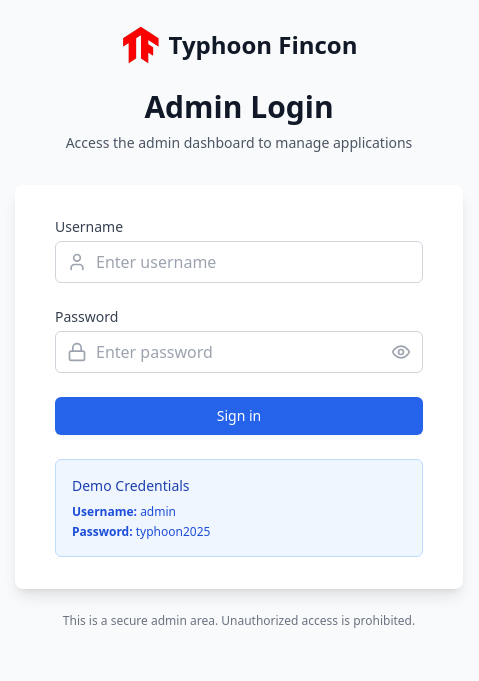
Scenario: AdminLogin Component › shows error for invalid credentials
Type "wronguser" into the field labelled "Username" at (239, 262), box [55, 241, 423, 283]
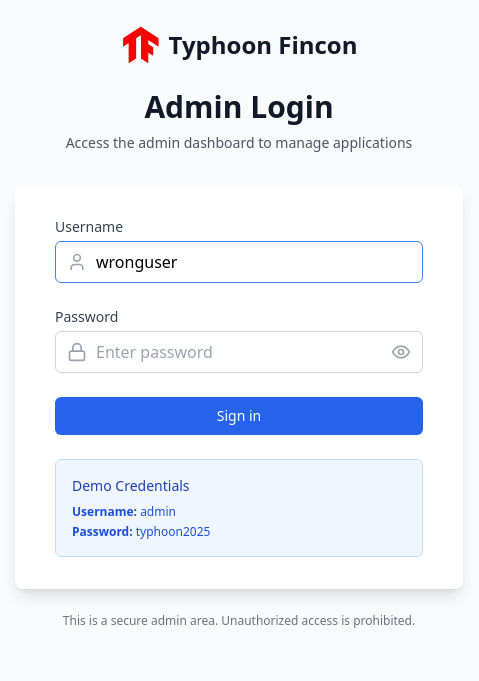
Type "wrongpass" into the password field labelled "Password" at (239, 352), box [55, 331, 423, 373]
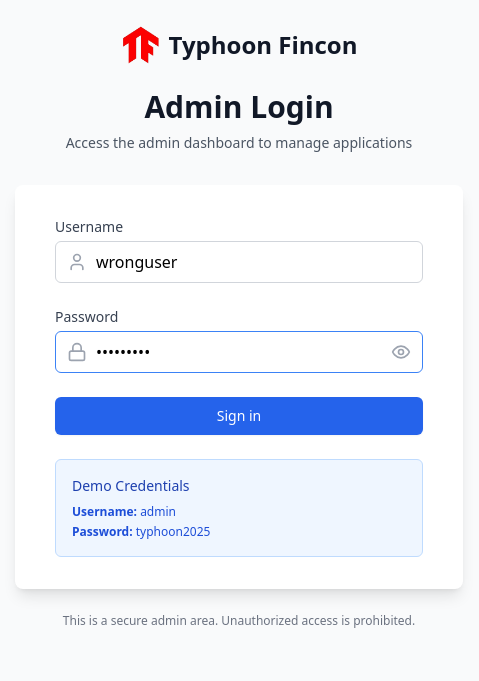
Click the button "Sign in" at (239, 416), box [55, 397, 423, 435]
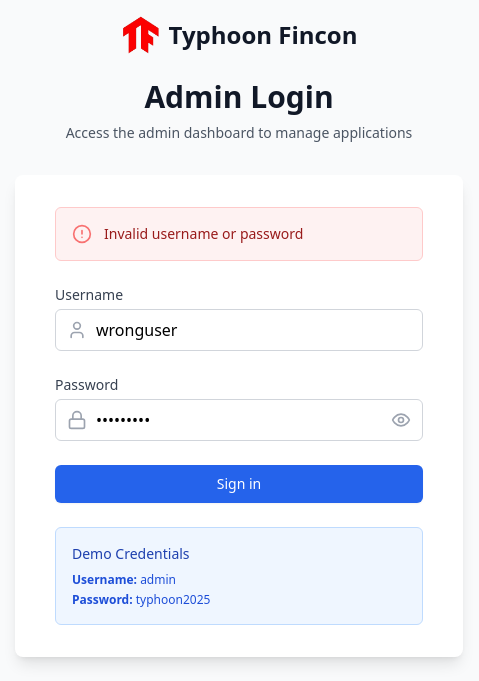
Check: the text "Invalid username or password" is shown, box [104, 224, 303, 244]
